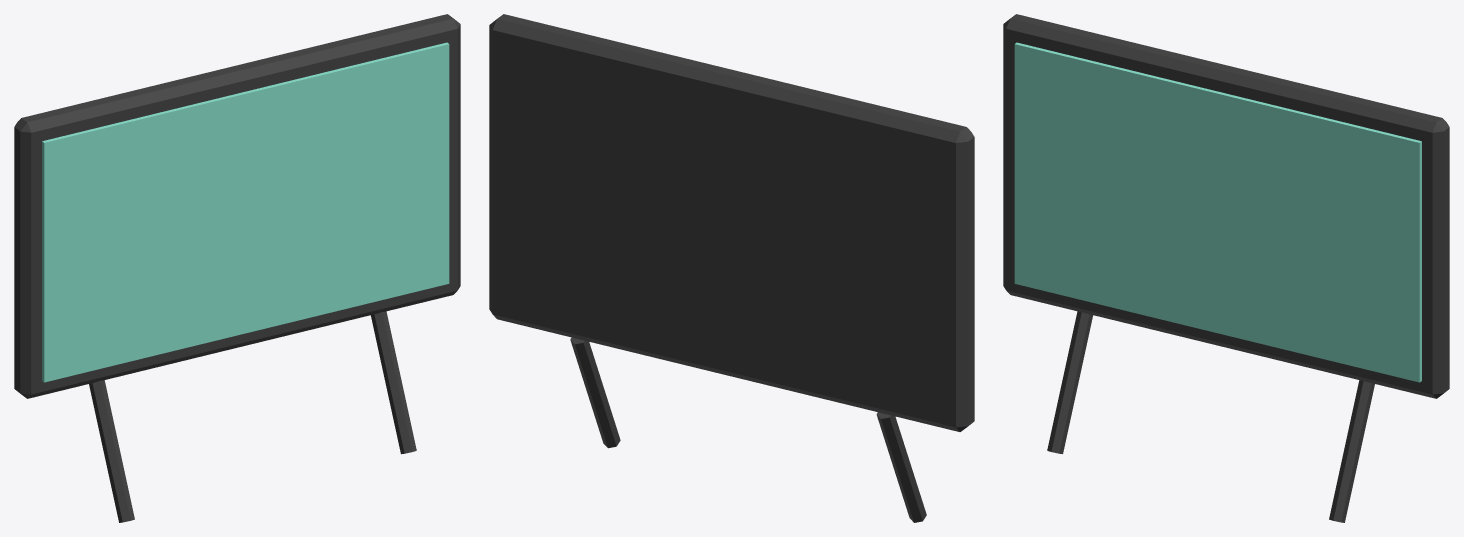
The picture shows the model from 3 angles, left to right: view 1: azimuth 30°, elevation 25°; view 2: azimuth 150°, elevation 25°; view 3: azimuth 330°, elevation 25°; orthographic projection. The views are drawn at different scales.
Visible parts, largest first — view 1: Screen, TV frame, Foot, Foot.001; view 2: TV frame, Foot, Foot.001; view 3: Screen, TV frame, Foot, Foot.001.
Boxes of the visible parts, bbox=[...] form: Screen: bbox=[42, 42, 449, 382]; TV frame: bbox=[14, 14, 460, 398]; Foot: bbox=[89, 380, 134, 522]; Foot.001: bbox=[371, 311, 416, 454]; TV frame: bbox=[489, 14, 974, 431]; Foot: bbox=[876, 412, 926, 522]; Foot.001: bbox=[570, 337, 620, 448]; Screen: bbox=[1014, 42, 1421, 382]; TV frame: bbox=[1003, 14, 1449, 398]; Foot: bbox=[1047, 311, 1092, 454]; Foot.001: bbox=[1329, 380, 1374, 522].
Size of the model in its own units: 125 by 108 by 20.31.
